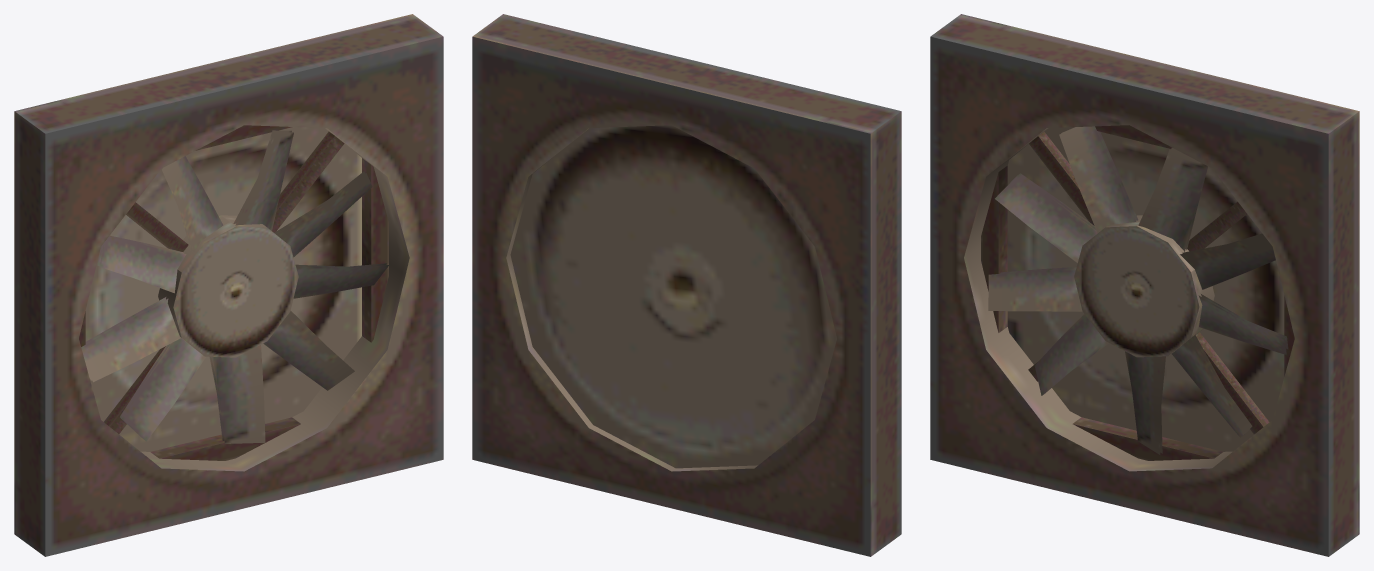
File: Ventilation.fbx
3 renders of one model, left to right at view 1: azimuth 30°, elevation 25°; view 2: azimuth 150°, elevation 25°; view 3: azimuth 330°, elevation 25°, orthographic.
Visible parts, largest first — view 1: Ventilation_1, Ventilation_2, Ventilation_2_blades, Ventilation_3_blades; view 2: Ventilation_1; view 3: Ventilation_1, Ventilation_2, Ventilation_2_blades, Ventilation_3_blades.
Part boxes in pixels (x1,y1,x2,y2): Ventilation_1: (14,14,443,556); Ventilation_2: (79,125,388,460); Ventilation_2_blades: (81,132,389,443); Ventilation_3_blades: (85,130,386,440); Ventilation_1: (472,14,901,556); Ventilation_1: (930,14,1359,556); Ventilation_2: (981,125,1294,460); Ventilation_2_blades: (988,126,1286,454); Ventilation_3_blades: (1000,127,1288,453).
Bounding box in the file's own units: 163 × 165 × 21.88.
